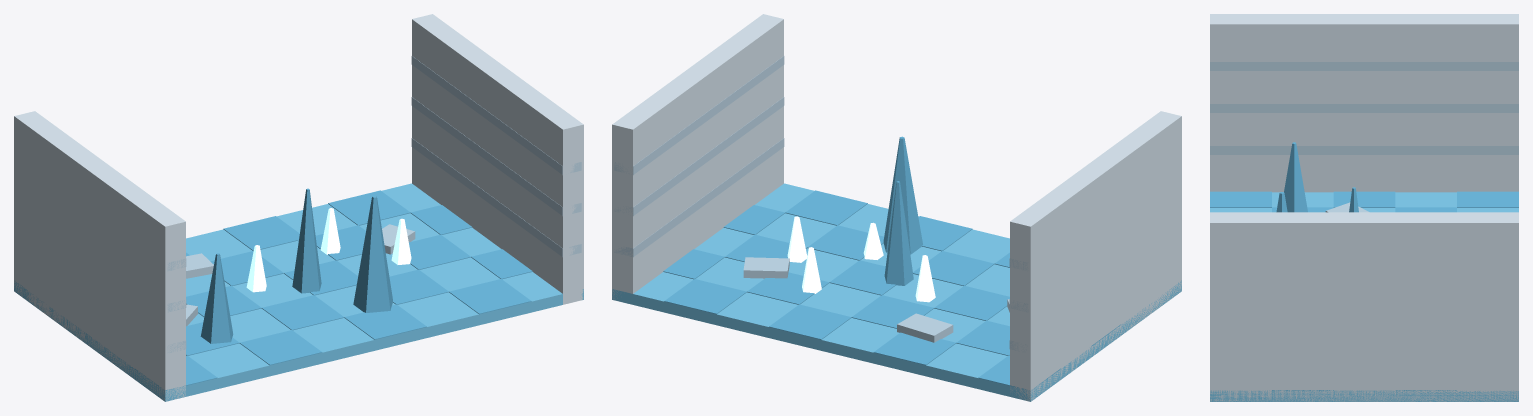
The model's file is ZoneGlace.glb.
The picture shows the model from 3 angles, left to right: view 1: azimuth 30°, elevation 25°; view 2: azimuth 150°, elevation 25°; view 3: azimuth 270°, elevation 25°; orthographic projection. The views are drawn at different scales.
Parts seen in each view (by area): view 1: ZoneGlace__wall, ZoneGlace__floor_alt, ZoneGlace__floor, ZoneGlace__wall_alt, ZoneGlace__ice_crystal; view 2: ZoneGlace__wall, ZoneGlace__floor, ZoneGlace__floor_alt, ZoneGlace__wall_alt, ZoneGlace__ice_crystal; view 3: ZoneGlace__wall, ZoneGlace__wall_alt, ZoneGlace__floor, ZoneGlace__floor_alt.
Part boxes in pixels (x1,y1,x2,y2): ZoneGlace__wall: (14, 14, 583, 401); ZoneGlace__floor_alt: (18, 188, 532, 390); ZoneGlace__floor: (14, 183, 583, 401); ZoneGlace__wall_alt: (167, 56, 581, 352); ZoneGlace__ice_crystal: (246, 208, 411, 292); ZoneGlace__wall: (612, 14, 1181, 401); ZoneGlace__floor: (612, 183, 1181, 401); ZoneGlace__floor_alt: (663, 136, 1121, 390); ZoneGlace__wall_alt: (614, 56, 1028, 351); ZoneGlace__ice_crystal: (787, 216, 935, 302); ZoneGlace__wall: (1210, 14, 1518, 401); ZoneGlace__wall_alt: (1210, 62, 1518, 212); ZoneGlace__floor: (1210, 192, 1518, 401); ZoneGlace__floor_alt: (1210, 142, 1518, 390).
Size of the model in its own units: 40 by 16 by 25.
